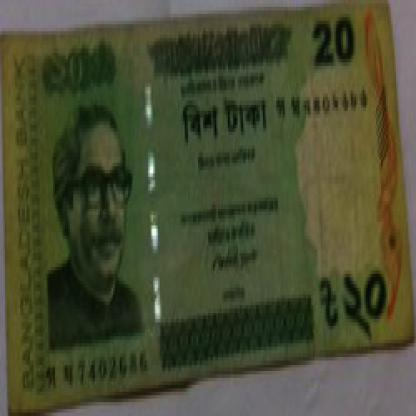Twenty: (318, 256, 404, 340), (50, 45, 120, 118), (178, 97, 273, 149), (310, 21, 354, 69)
